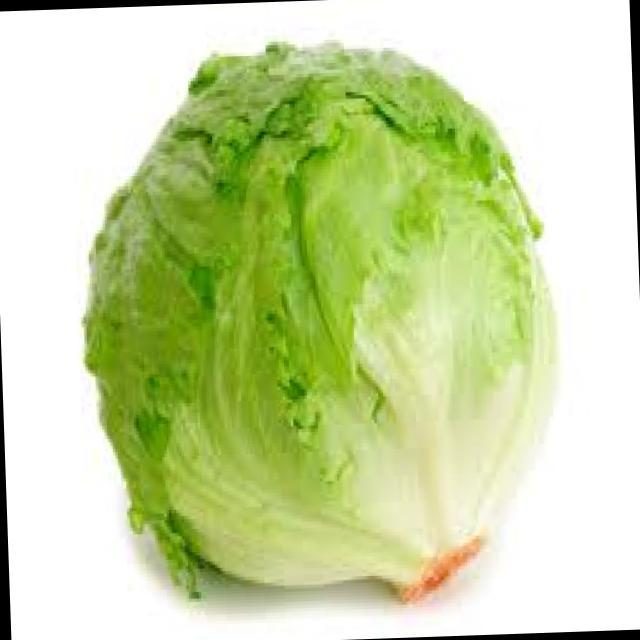Lettuce: (43, 1, 587, 636)
